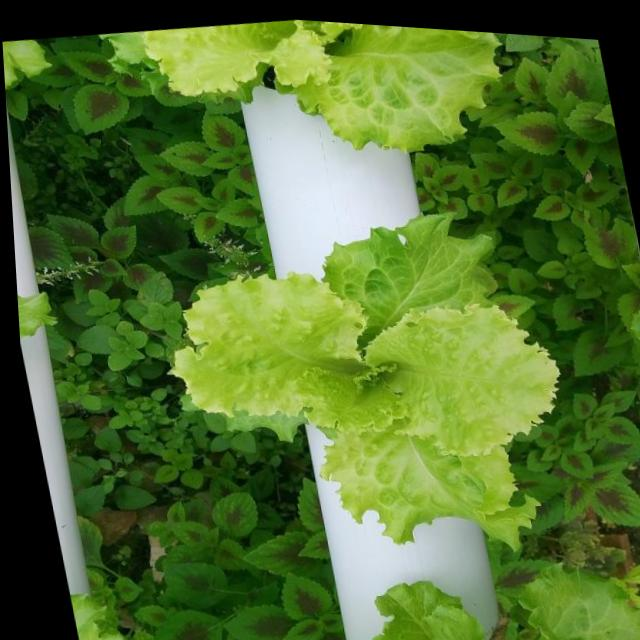Baby: (172, 215, 559, 550), (100, 20, 500, 152)
